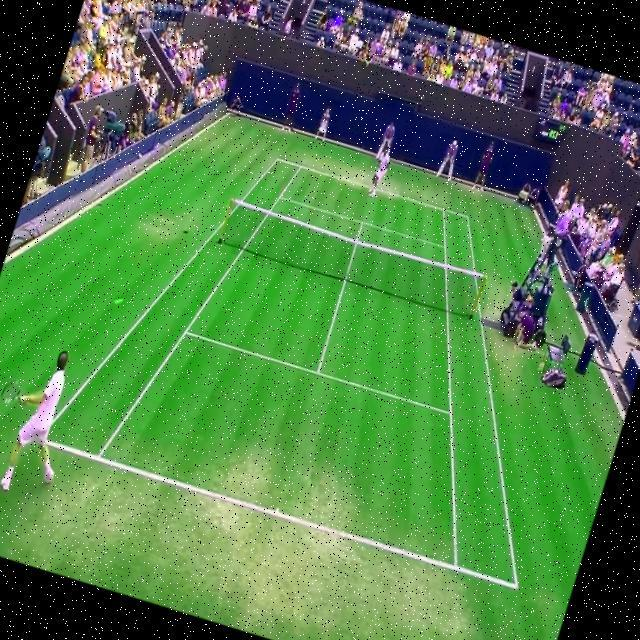court: (25, 110, 618, 590)
net: (214, 194, 490, 320)
player: (0, 335, 90, 503)
